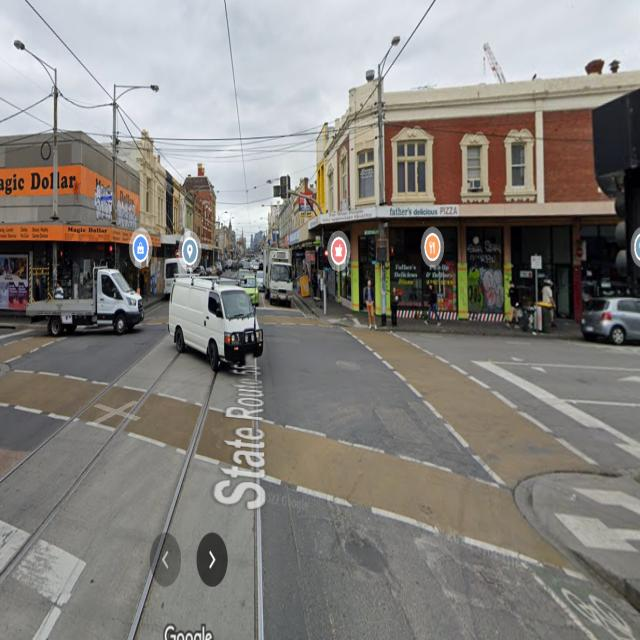steel-pole: (321, 230, 327, 314)
streetlight: (14, 38, 56, 88), (115, 84, 160, 104), (380, 36, 400, 74)
timber-pole: (376, 63, 388, 324), (51, 65, 58, 295), (112, 81, 118, 222)
traffic-light: (105, 240, 116, 268), (317, 246, 329, 270), (280, 174, 291, 200), (58, 250, 66, 268)
